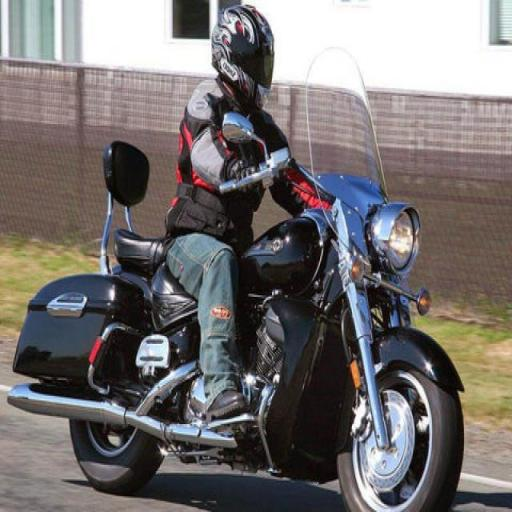Helmet: (212, 5, 274, 109)
Motor: (27, 197, 465, 512)
